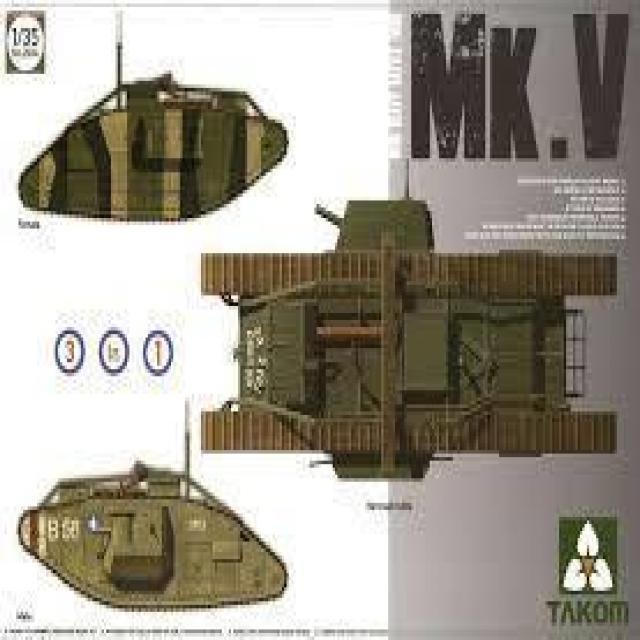MIL_MBT: (194, 237, 626, 469), (18, 67, 300, 236), (14, 462, 293, 617)
